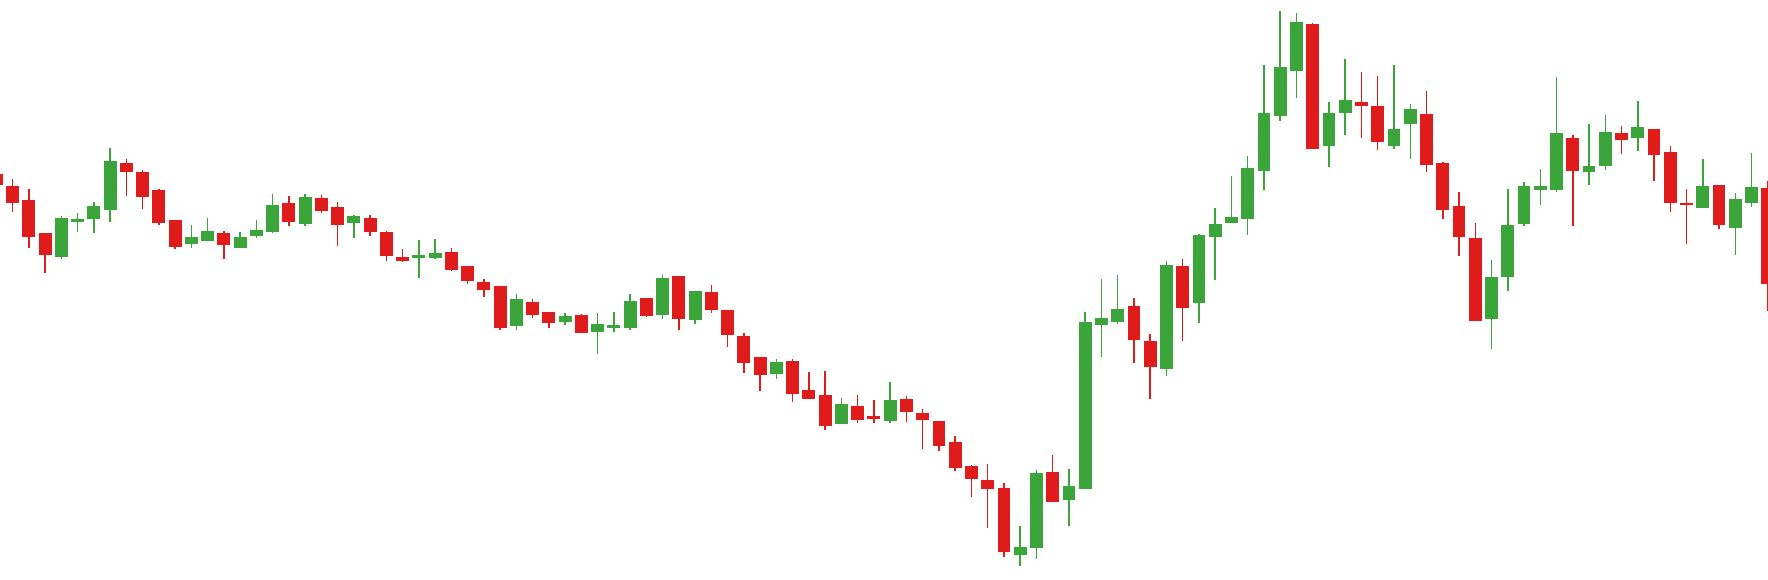sell: (1417, 78, 1583, 240)
